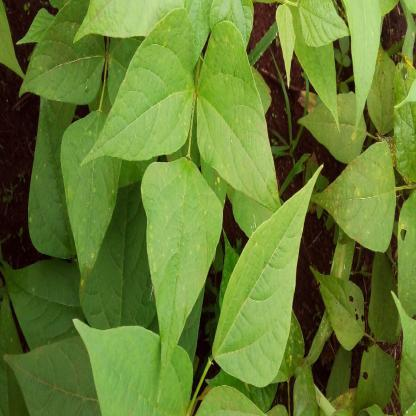Beans_Rust: (194, 19, 289, 227), (64, 111, 121, 278), (18, 0, 102, 102), (30, 94, 70, 262), (265, 310, 312, 387)
